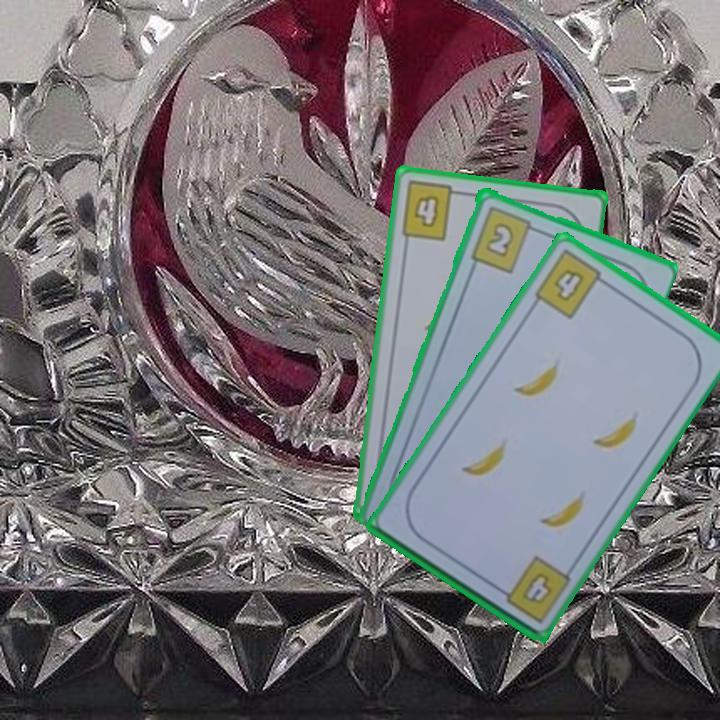2b: (467, 202, 542, 275)
4b: (530, 245, 612, 322), (492, 552, 574, 626), (397, 177, 466, 244)
